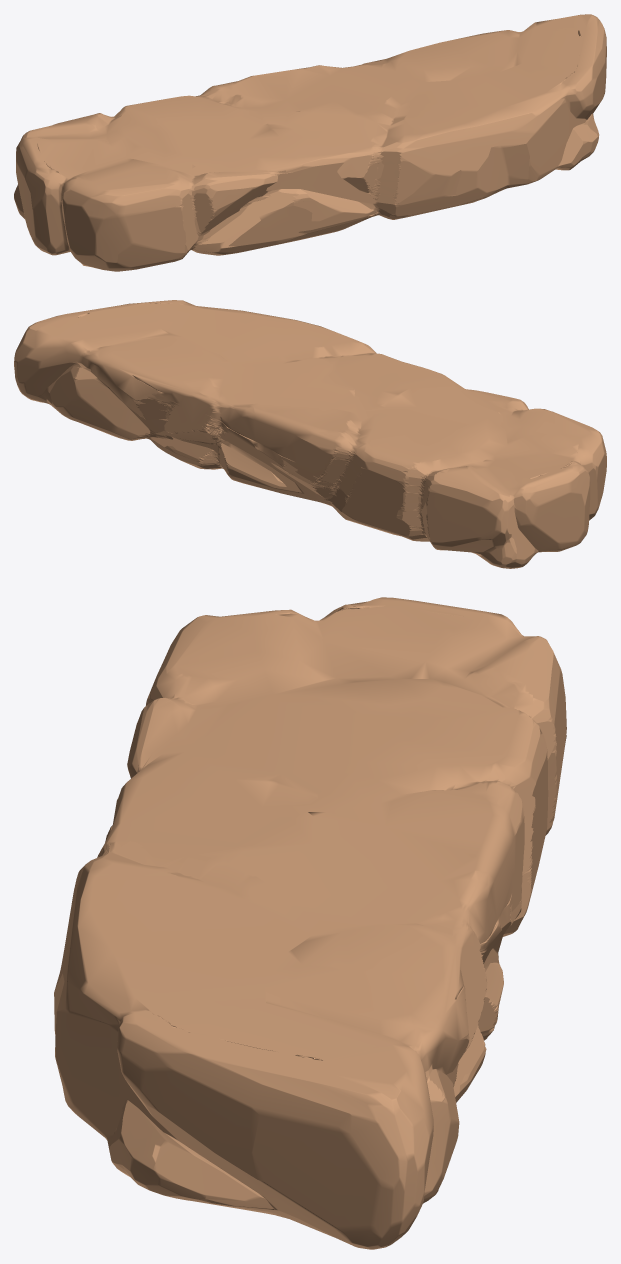
3 views of the same model, one above another, from view 1: azimuth 30°, elevation 25°; view 2: azimuth 150°, elevation 25°; view 3: azimuth 270°, elevation 25° (orthographic). The views are drawn at different scales.
Visible parts, largest first — view 1: Mesh_111_LOD0; view 2: Mesh_111_LOD0; view 3: Mesh_111_LOD0.
Part boxes in pixels (box(x1,y1,x2,y2)): Mesh_111_LOD0: box(14, 14, 606, 271); Mesh_111_LOD0: box(14, 300, 606, 568); Mesh_111_LOD0: box(54, 597, 566, 1249).
Size of what is drawn, in the model's own units: 4324 by 733 by 1708.
